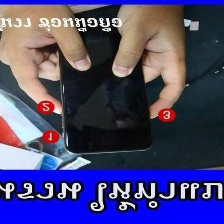phone: (49, 0, 162, 159)
